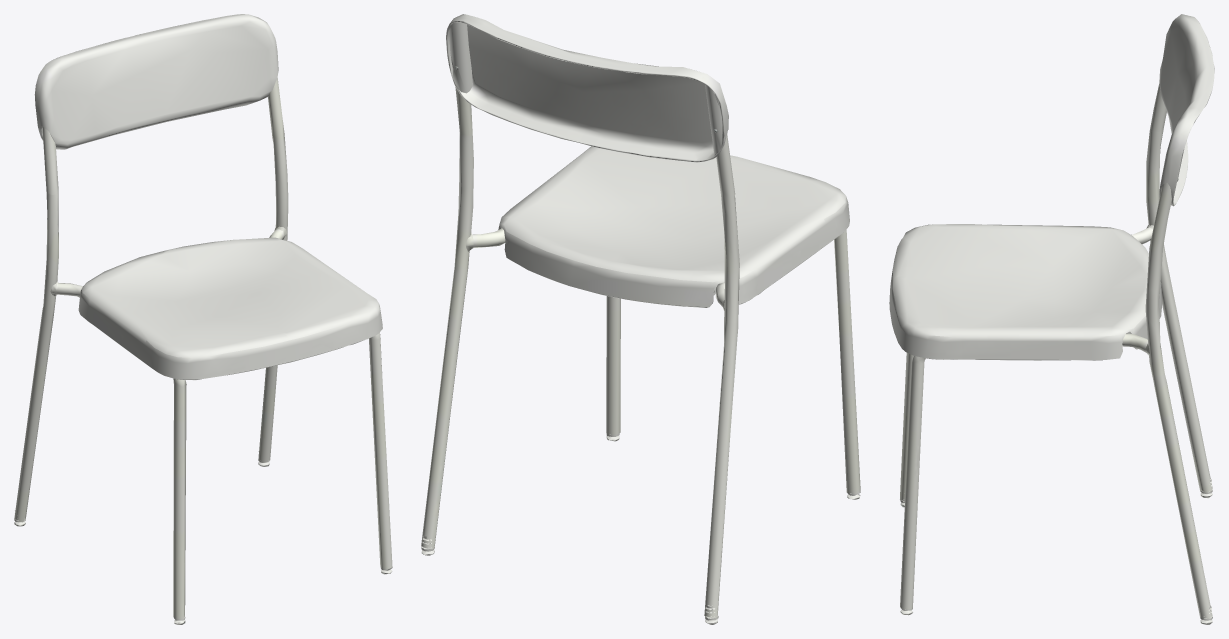
The model's file is 36 - VIHALS Chair - white.glb.
3 views of the same model, side by side, from view 1: azimuth 30°, elevation 25°; view 2: azimuth 150°, elevation 25°; view 3: azimuth 270°, elevation 25° (orthographic). The views are drawn at different scales.
Visible parts, largest first — view 1: ASY_ART_50569103_S01_NV01; view 2: ASY_ART_50569103_S01_NV01; view 3: ASY_ART_50569103_S01_NV01.
Boxes of the visible parts, x1=… form: ASY_ART_50569103_S01_NV01: x1=14, y1=14, x2=392, y2=624; ASY_ART_50569103_S01_NV01: x1=421, y1=14, x2=860, y2=624; ASY_ART_50569103_S01_NV01: x1=889, y1=14, x2=1214, y2=624.
Size of the model in its own units: 0.4547 by 0.7917 by 0.4721.
Materials: 1 (1 with a texture image).
